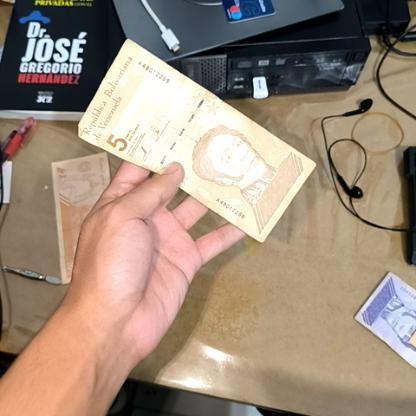five-front-vef: (78, 39, 316, 242)
ten-front-vef: (354, 272, 416, 416)
